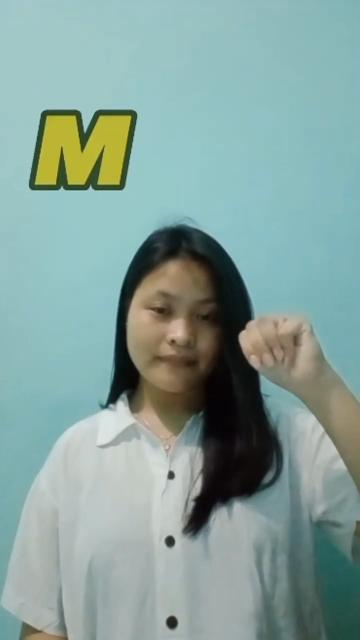M: (238, 304, 326, 396)
